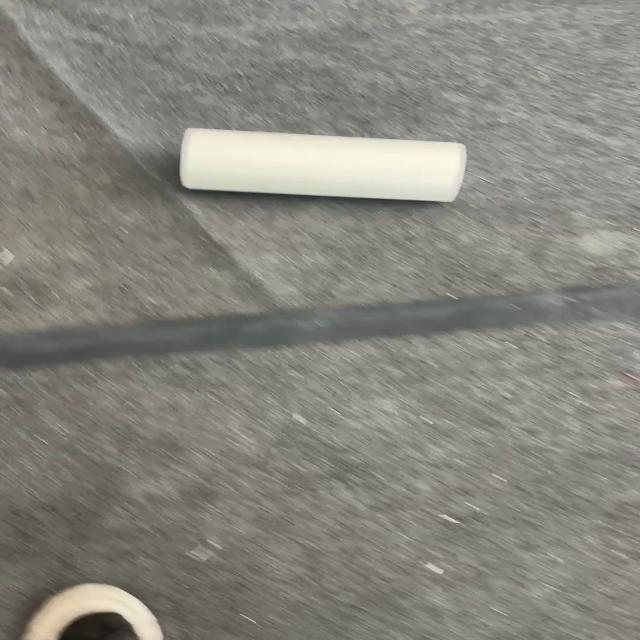Coral: (177, 126, 468, 203)
